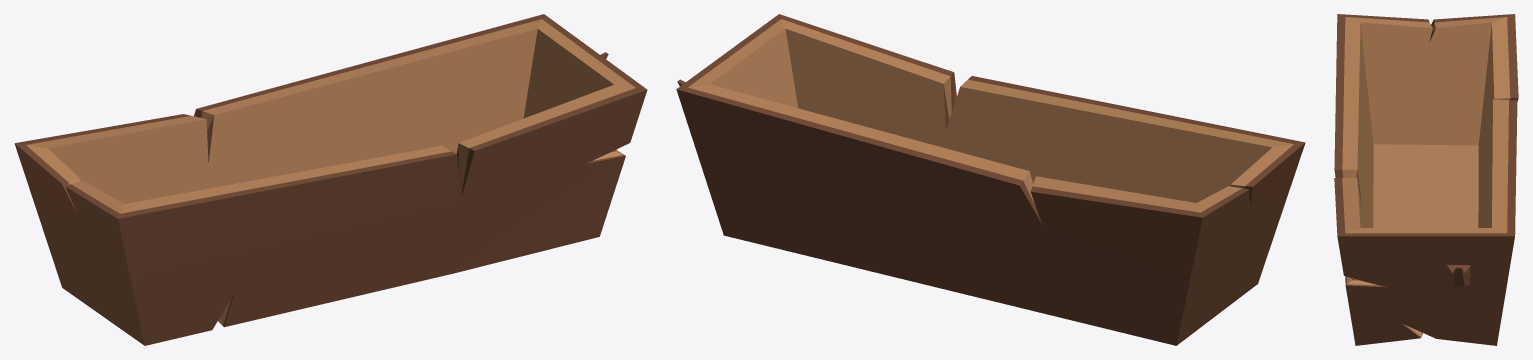
Rendered from FeederBig.fbx.
3 views of the same model, side by side, from view 1: azimuth 30°, elevation 25°; view 2: azimuth 150°, elevation 25°; view 3: azimuth 270°, elevation 25° (orthographic). The views are drawn at different scales.
Parts seen in each view (by area): view 1: Cube.015; view 2: Cube.015; view 3: Cube.015.
Part boxes in pixels (box(x1,y1,x2,y2)): Cube.015: box(14, 14, 647, 345); Cube.015: box(676, 14, 1305, 345); Cube.015: box(1334, 14, 1518, 345).
Size of the model in its own units: 534 by 134 by 177.
